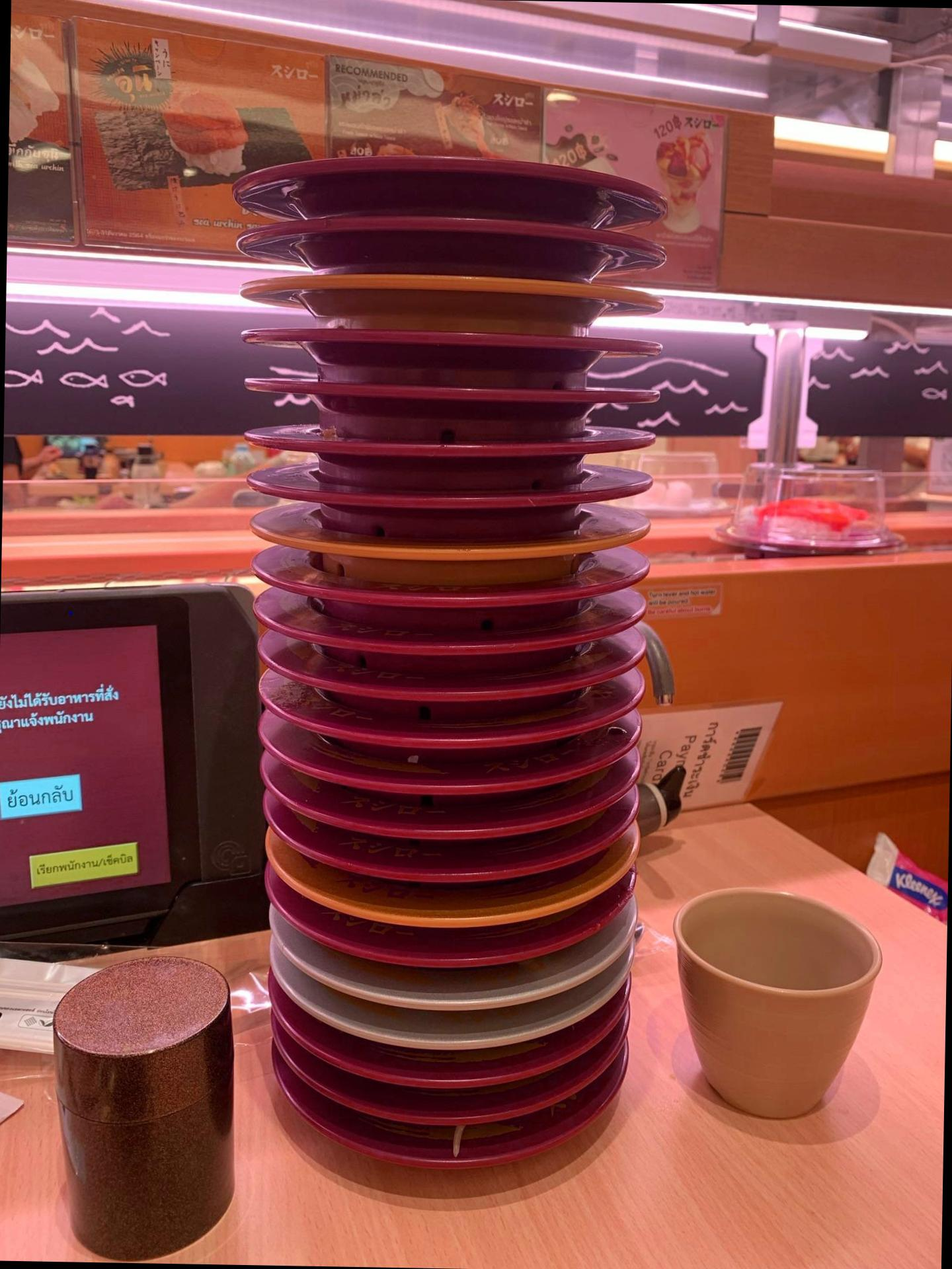Jangold: (245, 273, 676, 327), (270, 539, 623, 575), (320, 891, 581, 921)
Janred: (226, 141, 695, 223), (236, 214, 683, 258), (245, 374, 656, 417), (243, 333, 672, 374), (238, 476, 646, 512), (245, 429, 648, 465), (276, 667, 614, 709), (279, 621, 646, 657), (271, 589, 637, 624), (324, 1084, 587, 1131), (286, 709, 614, 746), (294, 754, 602, 791), (302, 841, 599, 877), (326, 1129, 565, 1173), (292, 803, 588, 836), (299, 927, 576, 962), (319, 1050, 557, 1085)
Janwhite: (285, 969, 626, 1006), (313, 1008, 591, 1040)
